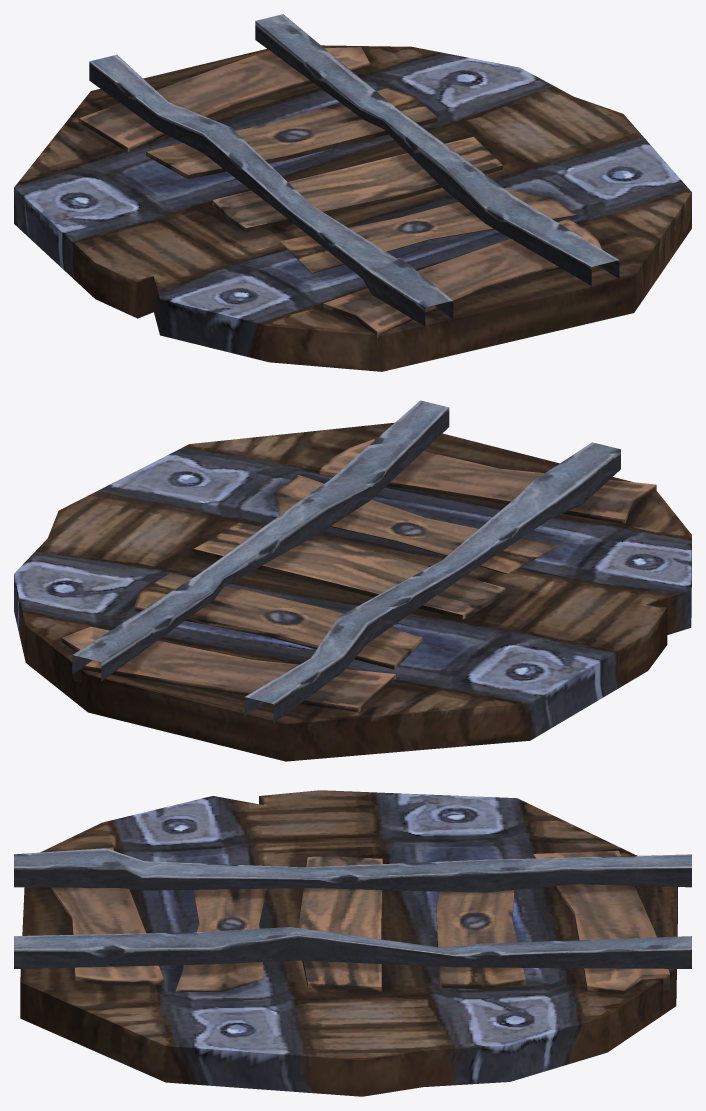
The model's file is mine_track_switcher.fbx.
3 renders of one model, top to bottom at view 1: azimuth 30°, elevation 25°; view 2: azimuth 150°, elevation 25°; view 3: azimuth 270°, elevation 25°, orthographic. The views are drawn at different scales.
Parts seen in each view (by area): view 1: mine_track_switcher-0; view 2: mine_track_switcher-0; view 3: mine_track_switcher-0.
Boxes of the visible parts, bbox=[...] form: mine_track_switcher-0: bbox=[14, 14, 691, 371]; mine_track_switcher-0: bbox=[14, 400, 691, 761]; mine_track_switcher-0: bbox=[14, 790, 691, 1096].
Size of the model in its own units: 3.77 by 0.4246 by 4.
